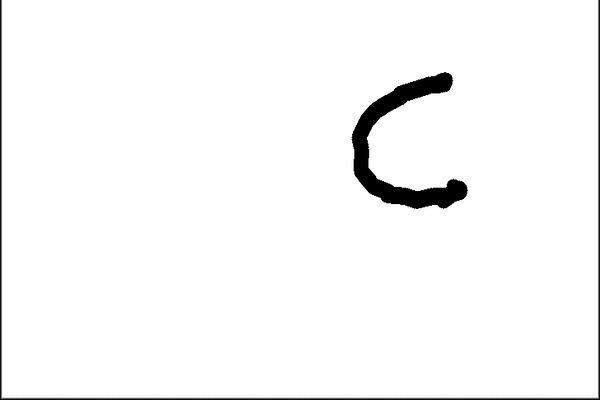C: (346, 65, 471, 212)
